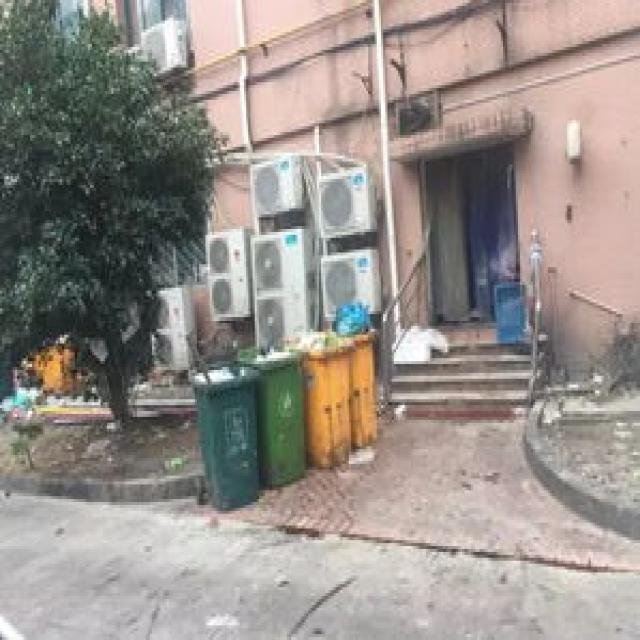overflow: (186, 355, 259, 511), (285, 326, 353, 467), (240, 340, 304, 488), (329, 297, 376, 446)
